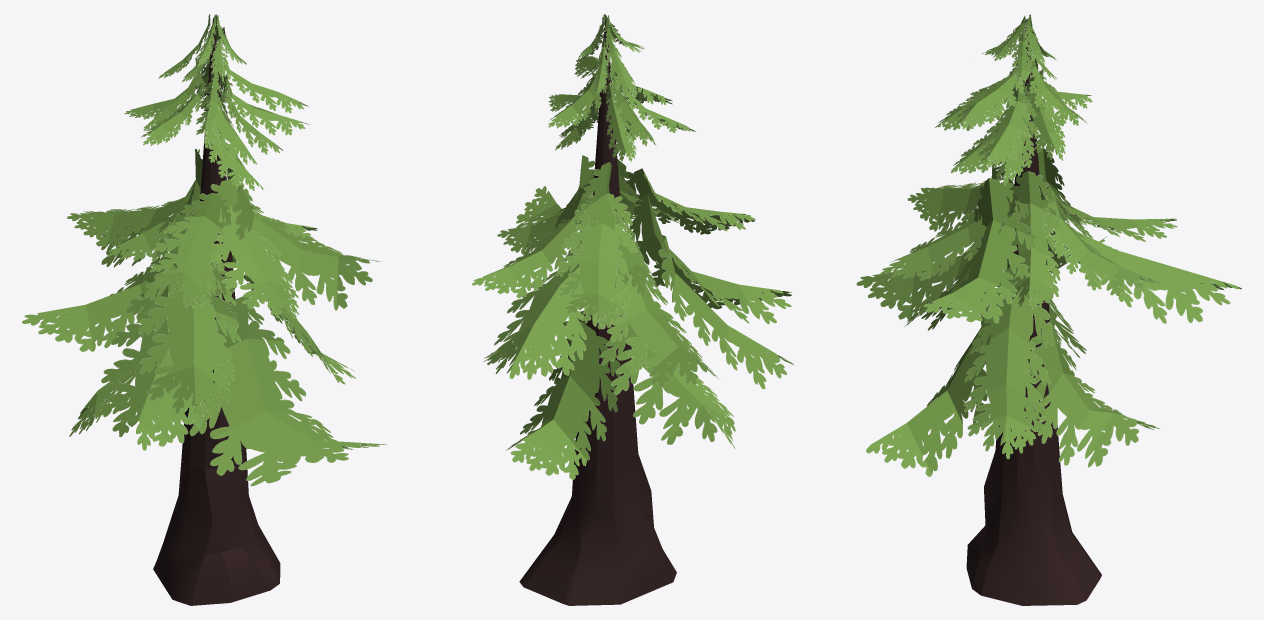
File: Pine_tree_2.fbx
3 renders of one model, left to right at view 1: azimuth 30°, elevation 25°; view 2: azimuth 150°, elevation 25°; view 3: azimuth 270°, elevation 25°, orthographic.
Visible parts, largest first — view 1: pPlane43, pCube2, pPlane41, pPlane44, pPlane40, pPlane45, pPlane42, pPlane38, pPlane39; view 2: pCube2, pPlane43, pPlane44, pPlane41, pPlane42, pPlane45, pPlane38, pPlane40, pPlane39; view 3: pPlane41, pCube2, pPlane44, pPlane43, pPlane40, pPlane42, pPlane45, pPlane38, pPlane39.
Part boxes in pixels (x1,y1,x2,y2): pPlane43: [69, 257, 386, 486]; pCube2: [153, 18, 280, 605]; pPlane41: [22, 212, 356, 420]; pPlane44: [67, 149, 317, 321]; pPlane40: [232, 185, 382, 310]; pPlane45: [124, 70, 283, 190]; pPlane42: [143, 54, 309, 148]; pPlane38: [158, 14, 241, 78]; pPlane39: [182, 27, 246, 83]; pCube2: [519, 19, 676, 605]; pPlane43: [506, 235, 793, 479]; pPlane44: [472, 155, 755, 329]; pPlane41: [483, 195, 791, 386]; pPlane42: [548, 54, 672, 146]; pPlane45: [555, 71, 695, 161]; pPlane38: [578, 14, 641, 99]; pPlane40: [515, 159, 635, 232]; pPlane39: [579, 25, 644, 95]; pPlane41: [856, 182, 1241, 459]; pCube2: [966, 19, 1101, 605]; pPlane44: [880, 148, 1177, 309]; pPlane43: [866, 257, 1160, 477]; pPlane40: [921, 178, 1037, 330]; pPlane42: [956, 54, 1087, 167]; pPlane45: [935, 69, 1092, 185]; pPlane38: [993, 14, 1057, 64]; pPlane39: [982, 33, 1056, 85].
Size of the model in its own units: 653 by 1118 by 730.
Materials: 2 (1 with a texture image).
